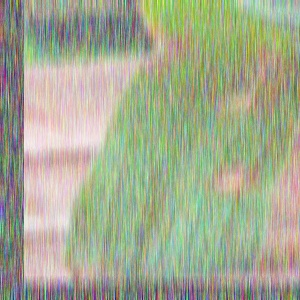Brown_Spot: (129, 18, 187, 79), (208, 82, 261, 125), (249, 45, 296, 72), (243, 66, 285, 96), (209, 175, 254, 197), (216, 157, 258, 179)
